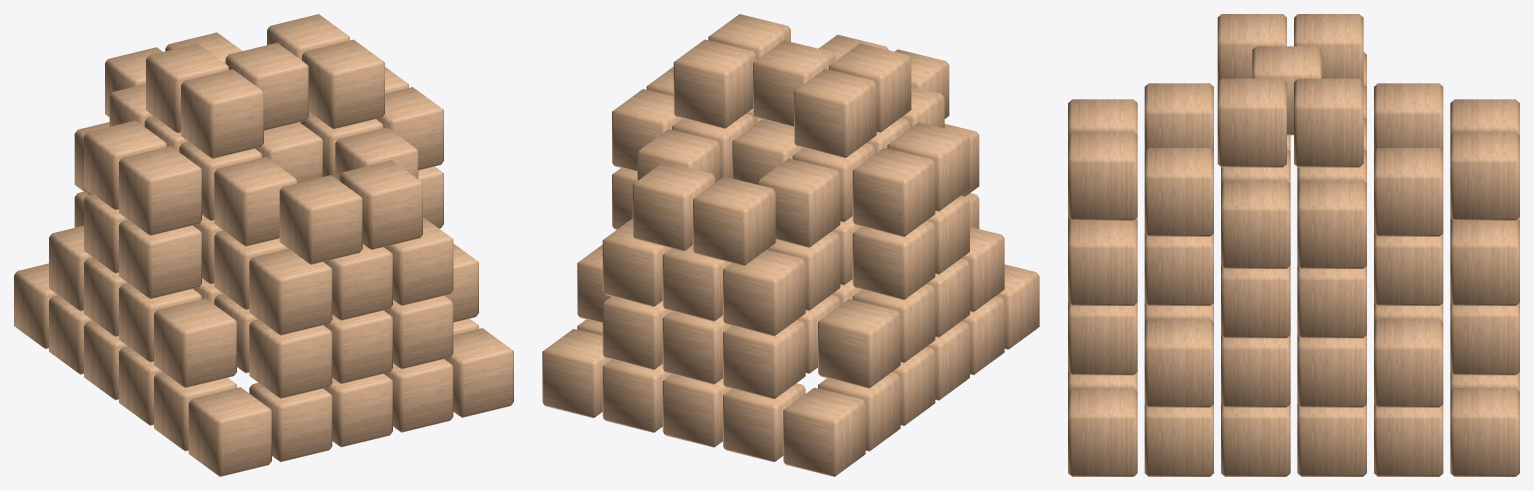
Rendered from level_74.fbx.
The picture shows the model from 3 angles, left to right: view 1: azimuth 30°, elevation 25°; view 2: azimuth 150°, elevation 25°; view 3: azimuth 270°, elevation 25°; orthographic projection. The views are drawn at different scales.
Parts seen in each view (by area): view 1: Cube, Cube.077, Cube.030, Cube.106, Cube.105, Cube.051, Cube.108, Cube.081, Cube.026, Cube.100, Cube.078, Cube.004 (+35 smaller); view 2: Cube.085, Cube.020, Cube.111, Cube.040, Cube.097, Cube.113, Cube.071, Cube.091, Cube.060, Cube.046, Cube.098, Cube.024 (+35 smaller); view 3: Cube.034, Cube.044, Cube.108, Cube.078, Cube.098, Cube.113, Cube.004, Cube.024, Cube.089, Cube.114, Cube.083, Cube.093 (+27 smaller).
Part boxes in pixels (x1,y1,x2,y2): Cube: (188,387,271,476); Cube.077: (279,175,362,264); Cube.030: (154,298,236,387); Cube.106: (181,69,263,158); Cube.105: (119,146,201,235); Cube.051: (249,249,332,335); Cube.108: (302,39,384,129); Cube.081: (214,157,297,246); Cube.026: (249,319,332,398); Cube.100: (119,220,201,299); Cube.078: (340,160,422,249); Cube.004: (444,328,513,417); Cube.085: (852,147,935,236); Cube.020: (783,387,865,476); Cube.111: (794,69,876,158); Cube.040: (818,299,900,388); Cube.097: (693,176,775,265); Cube.113: (673,39,756,128); Cube.071: (723,250,805,336); Cube.091: (757,158,840,247); Cube.060: (852,221,935,299); Cube.046: (723,320,805,399); Cube.098: (632,162,715,250); Cube.024: (542,329,611,417); Cube.034: (1144,318,1213,407); Cube.044: (1374,318,1443,407); Cube.108: (1217,78,1286,167); Cube.078: (1068,131,1137,220); Cube.098: (1450,131,1519,220); Cube.113: (1294,78,1363,167); Cube.004: (1068,388,1137,476); Cube.024: (1450,388,1519,476); Cube.089: (1297,180,1366,268); Cube.114: (1221,180,1290,268); Cube.083: (1144,148,1213,236); Cube.093: (1374,148,1443,236).
Bounding box in the file's own units: 10.8 × 10.8 × 13.
